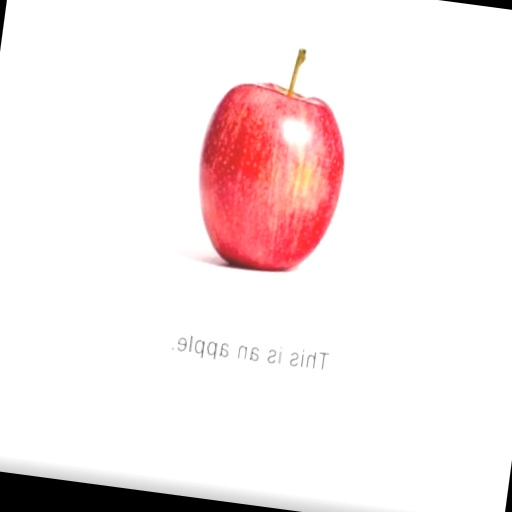fruit: (198, 49, 343, 270)
